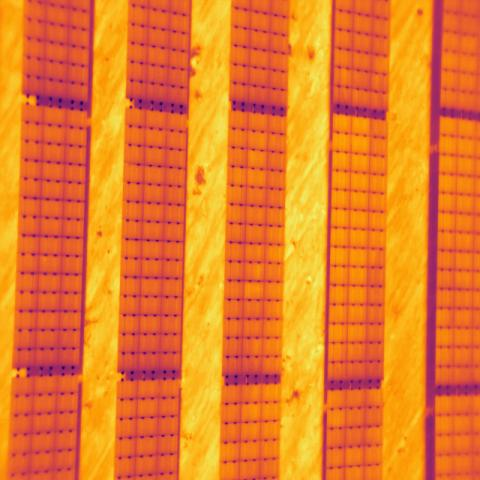fault: (245, 282, 265, 301)
